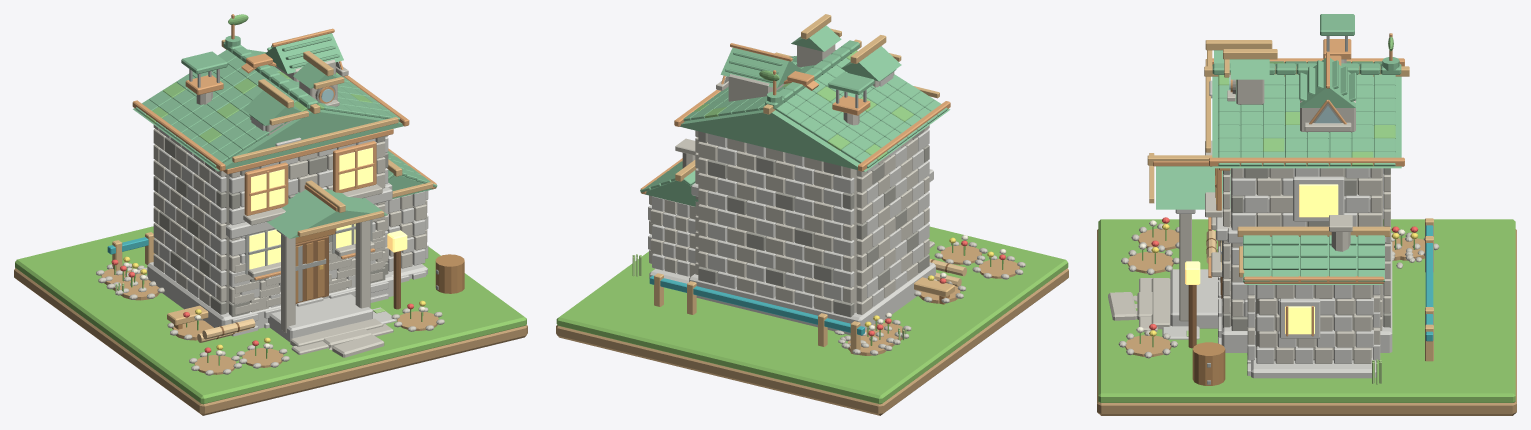
File: stone_house_l04_active.glb
3 views of the same model, side by side, from view 1: azimuth 30°, elevation 25°; view 2: azimuth 150°, elevation 25°; view 3: azimuth 270°, elevation 25° (orthographic). The views are drawn at different scales.
Visible parts, largest first — view 1: stone_house_component_pilot_grass_tile.004, stone_house_component_pilot_earth_tile.004, pilot_stone_house_l04_roof_gable_roof, pilot_stone_house_l04_porch_canopy_gable_roof, pilot_stone_house_l04_porch_landing, pilot_stone_house_l04_spec_stone_block_medium_medium_foundat, pilot_stone_house_l04_porch_stone_column_1, pilot_stone_house_l04_porch_stone_column_-1, pilot_stone_house_l04_side_dormer_green_gable, pilot_stone_house_l04_roof_roof_front_trim, pilot_stone_house_l04_yard_barrel_barrel_body, pilot_stone_house_l04_second_storey_upper_window_-1_window_p (+21 smaller); view 2: stone_house_component_pilot_grass_tile.004, stone_house_component_pilot_earth_tile.004, pilot_stone_house_l04_roof_gable_roof, pilot_stone_house_l04_spec_stone_block_medium_medium_foundat, pilot_stone_house_l04_yard_fence_rail, pilot_stone_house_l04_side_dormer_green_gable, pilot_stone_house_l04_roof_dormer_gable_roof, pilot_stone_house_l04_side_dormer_stone_cheek, pilot_stone_house_l04_right_annex_roof_gable_roof, pilot_stone_house_l04_roof_eave_-1, pilot_stone_house_l04_decor_chimney_crown_cap, pilot_stone_house_l04_round_attic_window_little_green_roof_g (+5 smaller); view 3: stone_house_component_pilot_grass_tile.004, stone_house_component_pilot_earth_tile.004, pilot_stone_house_l04_porch_canopy_gable_roof, pilot_stone_house_l04_roof_gable_roof, pilot_stone_house_l04_right_annex_foundation_stone_block_low, pilot_stone_house_l04_porch_landing, pilot_stone_house_l04_yard_barrel_barrel_body, pilot_stone_house_l04_right_annex_roof_roof_ridge, pilot_stone_house_l04_second_storey_right_upper_window_glass, pilot_stone_house_l04_roof_eave_+1, pilot_stone_house_l04_spec_stone_block_medium_medium_foundat, pilot_stone_house_l04_side_dormer_green_gable (+34 smaller).
Boxes of the visible parts, x1,y1,x2,y2 form: stone_house_component_pilot_grass_tile.004: (15,226,526,404); stone_house_component_pilot_earth_tile.004: (14,268,527,415); pilot_stone_house_l04_roof_gable_roof: (133,50,403,171); pilot_stone_house_l04_porch_canopy_gable_roof: (267,189,387,238); pilot_stone_house_l04_porch_landing: (268,294,372,342); pilot_stone_house_l04_spec_stone_block_medium_medium_foundat: (147,262,393,328); pilot_stone_house_l04_porch_stone_column_1: (355,220,370,308); pilot_stone_house_l04_porch_stone_column_-1: (281,234,295,333); pilot_stone_house_l04_side_dormer_green_gable: (265,33,343,73); pilot_stone_house_l04_roof_roof_front_trim: (232,117,398,162); pilot_stone_house_l04_yard_barrel_barrel_body: (435,254,464,293); pilot_stone_house_l04_second_storey_upper_window_-1_window_p: (251,169,284,211); stone_house_component_pilot_grass_tile.004: (556,226,1068,404); stone_house_component_pilot_earth_tile.004: (556,268,1068,415); pilot_stone_house_l04_roof_gable_roof: (680,50,950,171); pilot_stone_house_l04_spec_stone_block_medium_medium_foundat: (689,262,935,335); pilot_stone_house_l04_yard_fence_rail: (649,275,864,335); pilot_stone_house_l04_side_dormer_green_gable: (720,47,801,88); pilot_stone_house_l04_roof_dormer_gable_roof: (841,46,901,81); pilot_stone_house_l04_side_dormer_stone_cheek: (728,74,785,101); pilot_stone_house_l04_right_annex_roof_gable_roof: (642,180,698,206); pilot_stone_house_l04_roof_eave_-1: (858,101,950,171); pilot_stone_house_l04_decor_chimney_crown_cap: (828,72,874,94); pilot_stone_house_l04_round_attic_window_little_green_roof_g: (791,25,841,51); stone_house_component_pilot_grass_tile.004: (1098,219,1515,402); stone_house_component_pilot_earth_tile.004: (1097,229,1516,415); pilot_stone_house_l04_porch_canopy_gable_roof: (1156,166,1230,209); pilot_stone_house_l04_roof_gable_roof: (1212,65,1401,168); pilot_stone_house_l04_right_annex_foundation_stone_block_low: (1251,345,1376,378); pilot_stone_house_l04_porch_landing: (1170,269,1221,328); pilot_stone_house_l04_yard_barrel_barrel_body: (1192,342,1225,385); pilot_stone_house_l04_right_annex_roof_roof_ridge: (1237,226,1390,236); pilot_stone_house_l04_second_storey_right_upper_window_glass: (1299,184,1338,217); pilot_stone_house_l04_roof_eave_+1: (1209,157,1404,166); pilot_stone_house_l04_spec_stone_block_medium_medium_foundat: (1221,241,1392,352); pilot_stone_house_l04_side_dormer_green_gable: (1300,58,1355,107).
Size of the model in its own units: 3.6 by 2.79 by 3.6.
